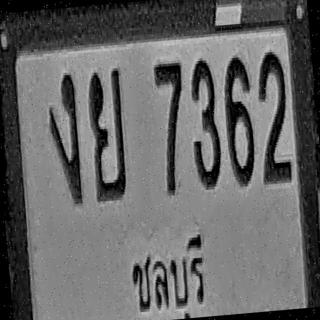A07: (45, 72, 84, 205)
A34: (86, 66, 130, 200)
N02: (253, 50, 293, 183)
N03: (186, 57, 223, 188)
N06: (221, 54, 257, 185)
N07: (153, 59, 191, 194)
P13: (121, 222, 222, 320)
